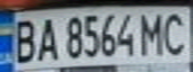4: (115, 9, 139, 57)
5: (81, 11, 103, 60)
6: (100, 11, 121, 57)
8: (60, 12, 84, 61)
A: (33, 15, 60, 63)
B: (6, 16, 39, 64)
C: (160, 9, 193, 56)
M: (136, 9, 169, 56)
